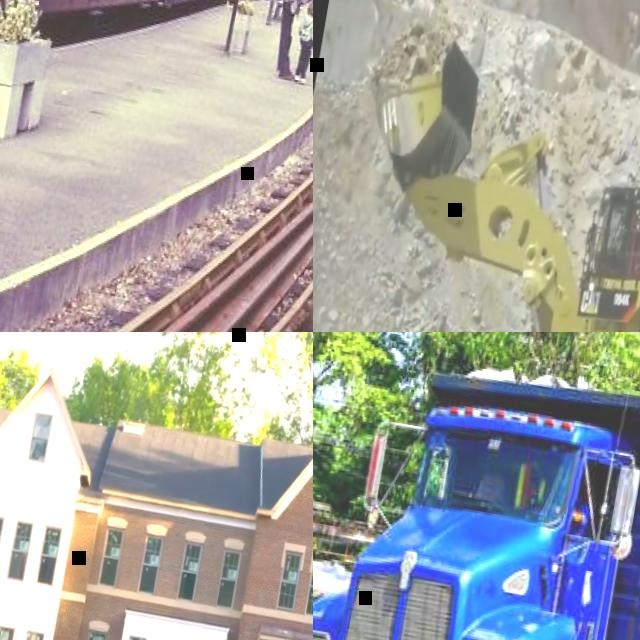NO-Hardhat: (306, 0, 313, 15)
NO-Safety Vest: (298, 15, 313, 43)
Person: (265, 0, 313, 84), (288, 0, 313, 85)
machinery: (313, 13, 640, 332), (313, 344, 640, 640)
